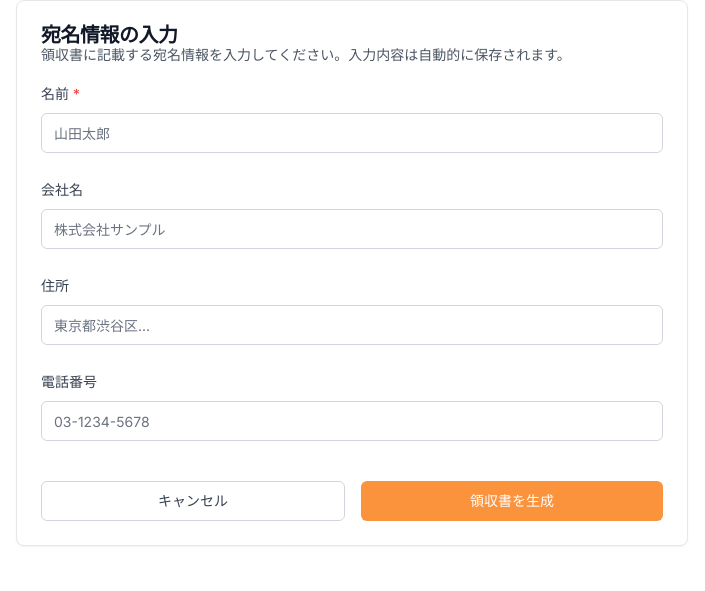
Test case: CustomerInfoForm › バリデーション › 名前が空の場合、エラーメッセージが表示される
Click the button "領収書を生成". click: (512, 501)
box: [361,481,663,521]
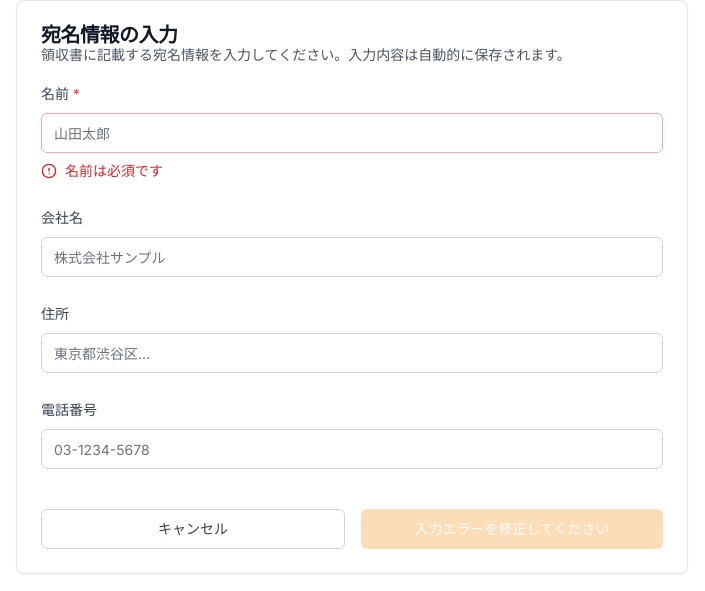
Expected: the text "名前は必須です" is shown, [65,161,163,181]
